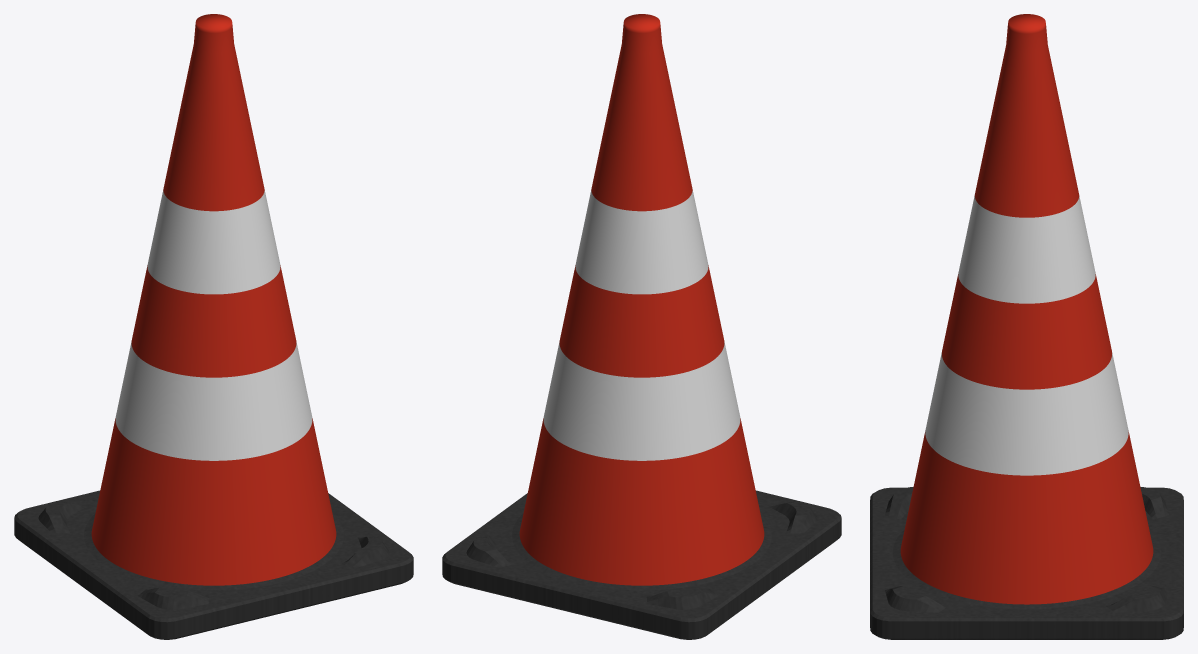
File: traffic_cone.glb
3 views of the same model, side by side, from view 1: azimuth 30°, elevation 25°; view 2: azimuth 150°, elevation 25°; view 3: azimuth 270°, elevation 25° (orthographic). The views are drawn at different scales.
Parts seen in each view (by area): view 1: Continuous hollow PVC shell with open ballast ring; view 2: Continuous hollow PVC shell with open ballast ring; view 3: Continuous hollow PVC shell with open ballast ring.
Part boxes in pixels (x1=…): Continuous hollow PVC shell with open ballast ring: x1=14, y1=14, x2=413, y2=639; Continuous hollow PVC shell with open ballast ring: x1=442, y1=14, x2=841, y2=639; Continuous hollow PVC shell with open ballast ring: x1=870, y1=14, x2=1183, y2=639.
Bounding box in the file's own units: 0.36 × 0.7 × 0.36.
Materials: 4 (1 with a texture image).
